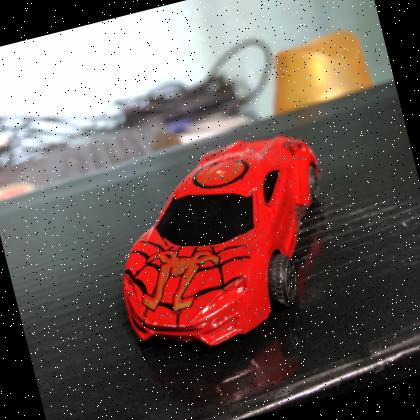Car: (88, 115, 364, 372)
